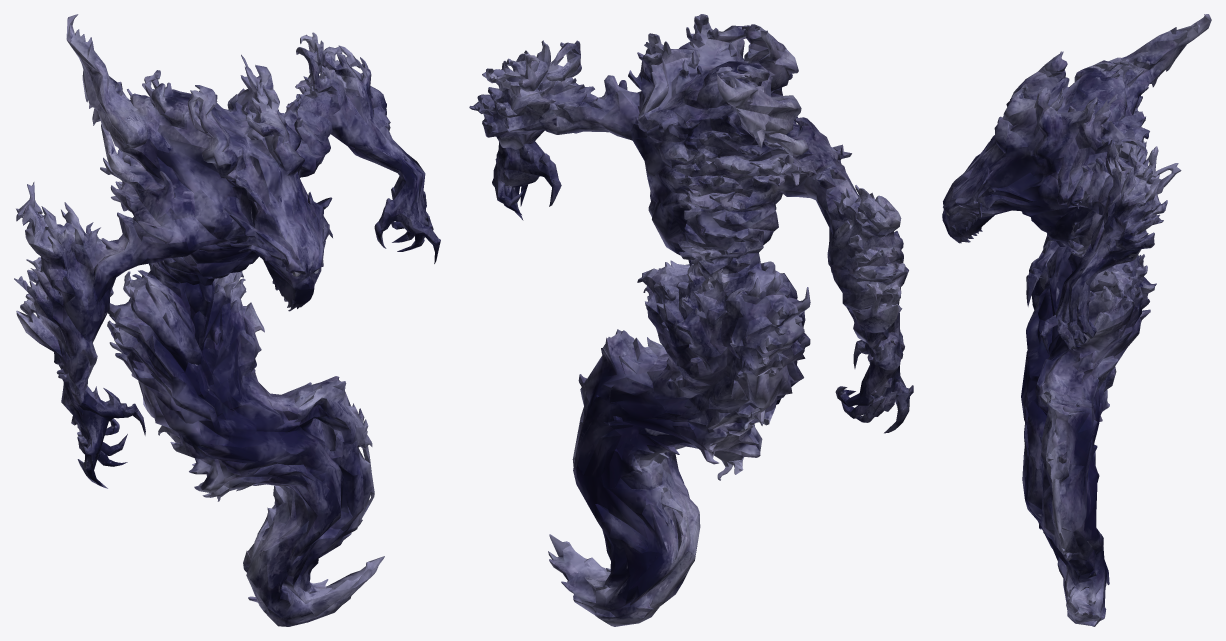
File: voidWraith.glb
The picture shows the model from 3 angles, left to right: view 1: azimuth 30°, elevation 25°; view 2: azimuth 150°, elevation 25°; view 3: azimuth 270°, elevation 25°; orthographic projection. The views are drawn at different scales.
Visible parts, largest first — view 1: output_unwrapped; view 2: output_unwrapped; view 3: output_unwrapped.
Boxes of the visible parts, x1,y1,x2,y2 form: output_unwrapped: [14, 14, 440, 626]; output_unwrapped: [469, 14, 913, 626]; output_unwrapped: [942, 14, 1211, 626].
Bounding box in the file's own units: 1.3 × 1.9 × 0.8603.
1 material, 1 textured.
